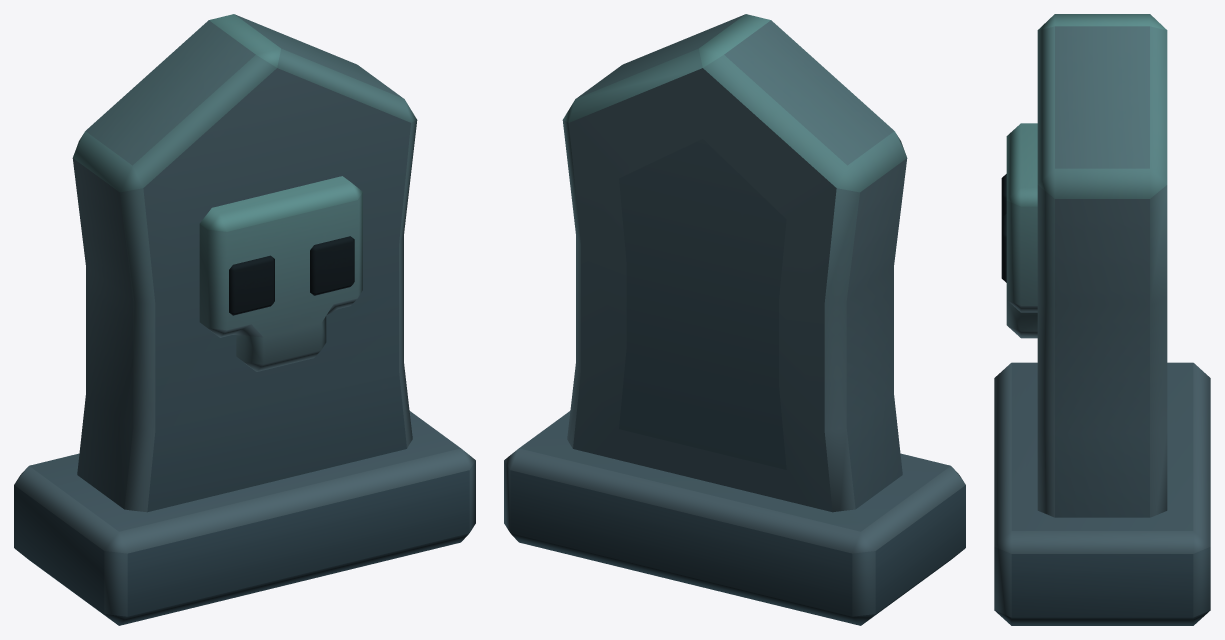
File: grave_stone_1.fbx
The picture shows the model from 3 angles, left to right: view 1: azimuth 30°, elevation 25°; view 2: azimuth 150°, elevation 25°; view 3: azimuth 270°, elevation 25°; orthographic projection.
Visible parts, largest first — view 1: grave_stone_1; view 2: grave_stone_1; view 3: grave_stone_1.
Part boxes in pixels (x1,y1,x2,y2): grave_stone_1: [14, 14, 475, 625]; grave_stone_1: [504, 14, 965, 625]; grave_stone_1: [994, 14, 1210, 625].
Bounding box in the file's own units: 90 × 120 × 45.
